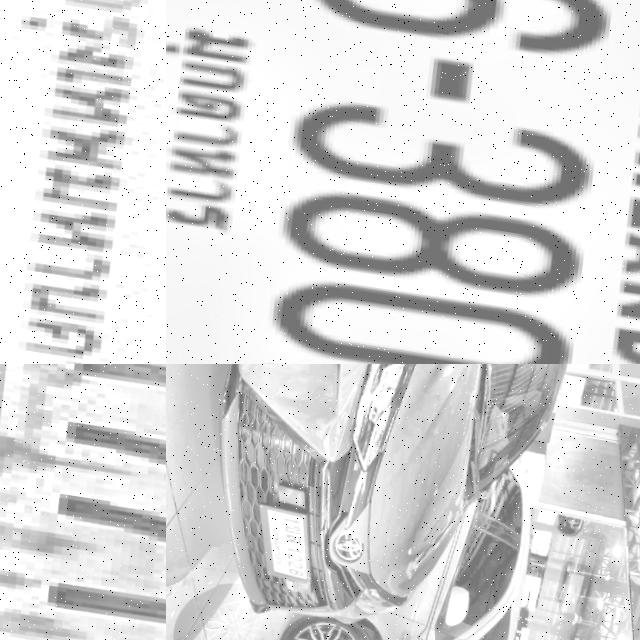license-plate: (166, 0, 640, 364), (0, 0, 166, 364), (0, 364, 166, 640), (234, 495, 327, 592)
